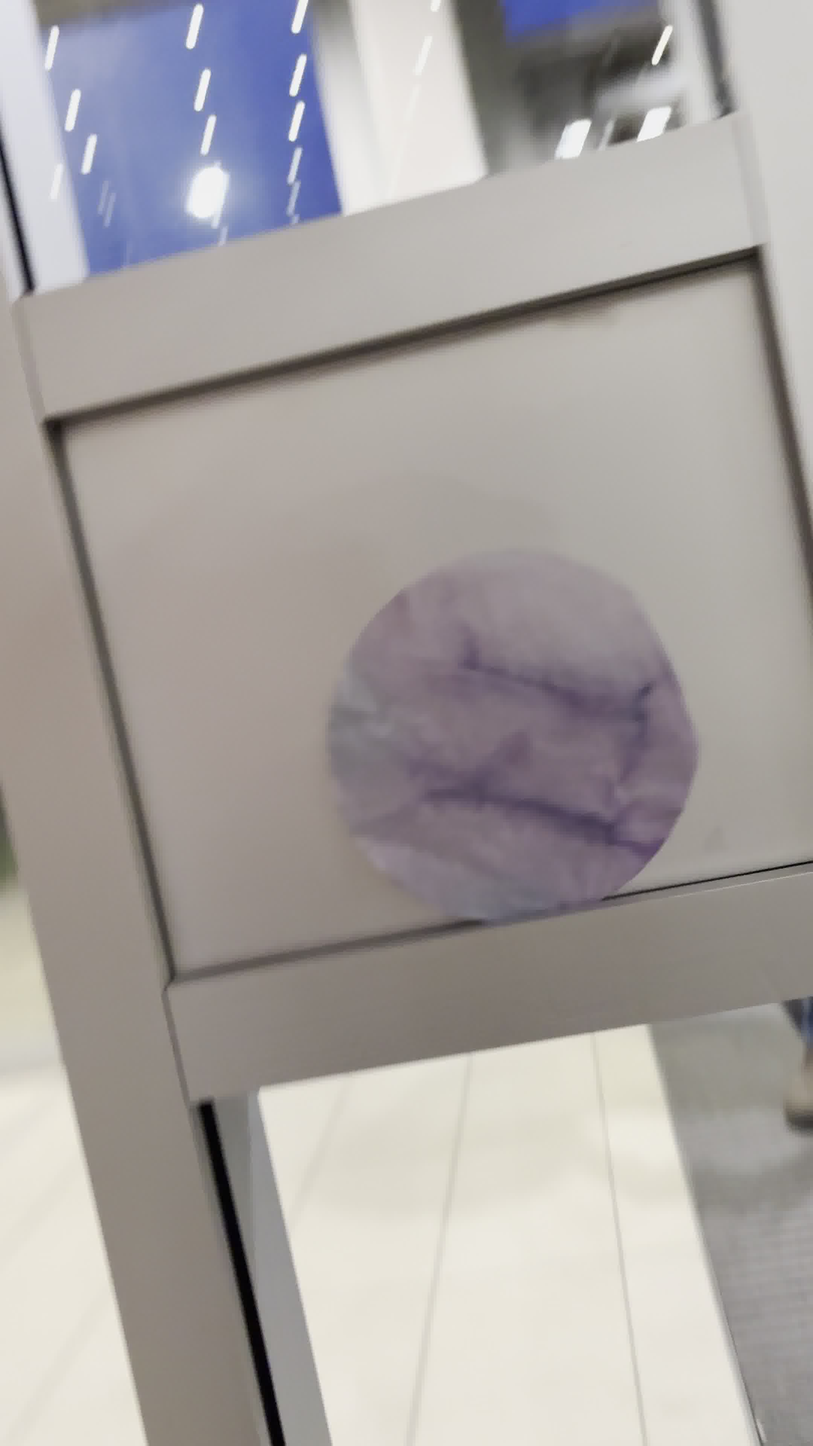Target: (311, 537, 720, 932)
